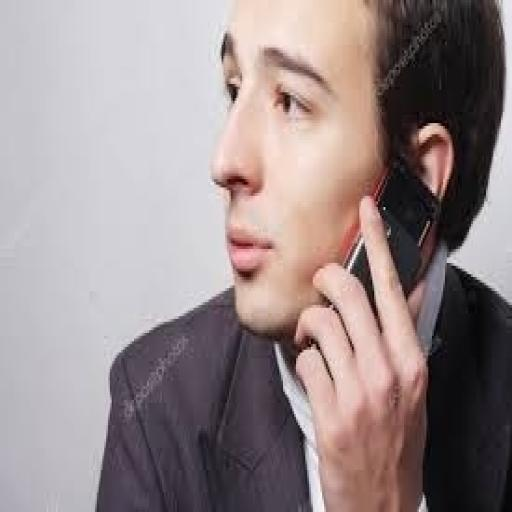calling: (93, 0, 510, 509)
